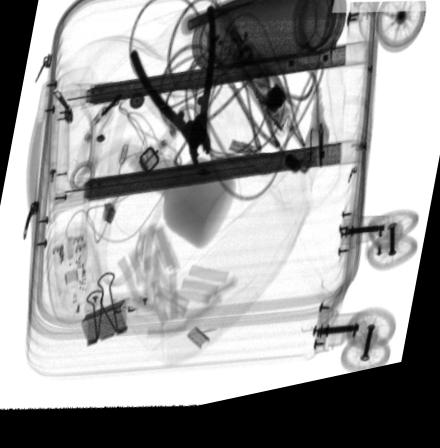Hammer: (180, 0, 308, 44)
Pliers: (129, 14, 215, 175)
